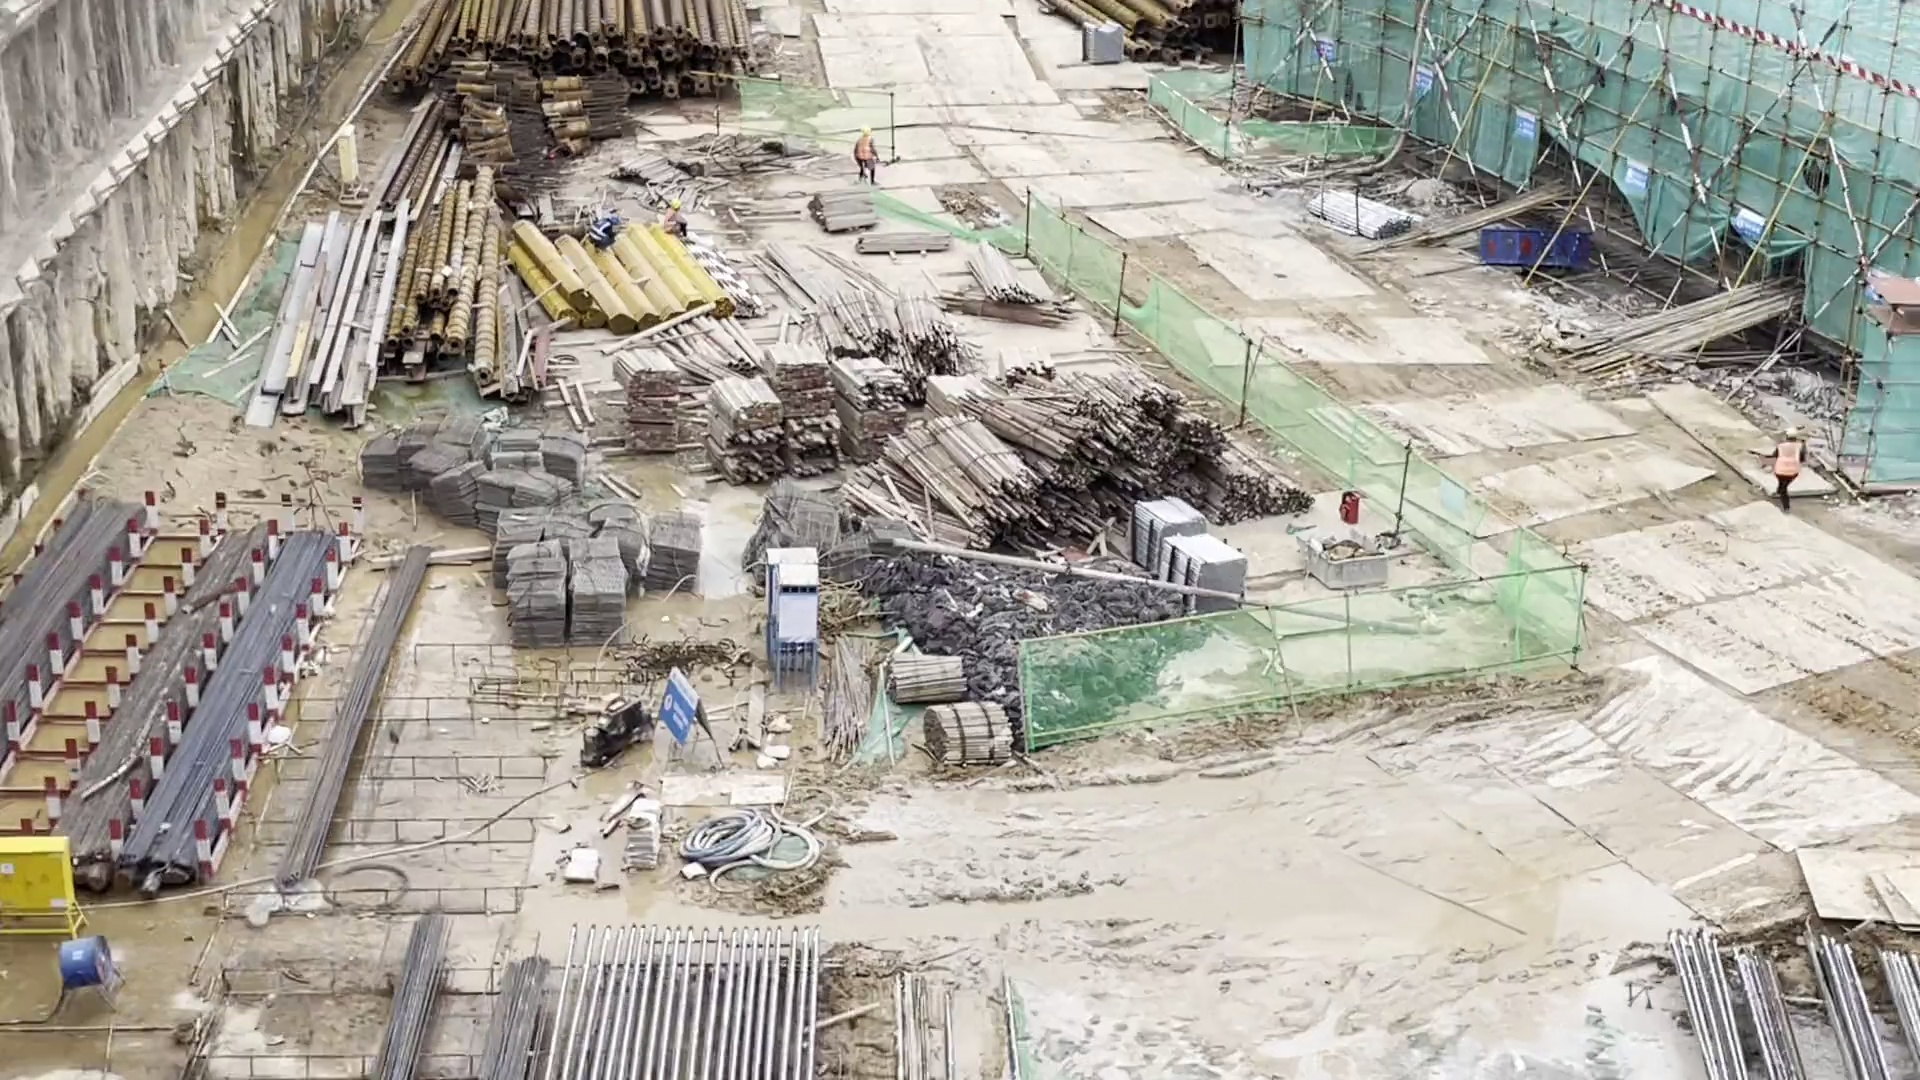brick: (1135, 495, 1245, 616)
ebox: (1, 829, 81, 935)
helmet: (1784, 423, 1799, 439), (856, 124, 876, 134), (674, 197, 682, 211), (610, 216, 619, 226)
hopper: (1489, 196, 1606, 271), (1299, 525, 1398, 600)
person: (1769, 415, 1812, 521), (848, 117, 882, 187), (583, 203, 629, 250), (662, 187, 691, 236)
rebar: (73, 508, 355, 920), (1679, 928, 1920, 1072), (403, 897, 559, 1080)
vest: (1775, 441, 1800, 480), (855, 137, 876, 168), (587, 218, 608, 244), (664, 208, 676, 234)
wood: (874, 357, 1306, 517), (613, 294, 945, 491)
